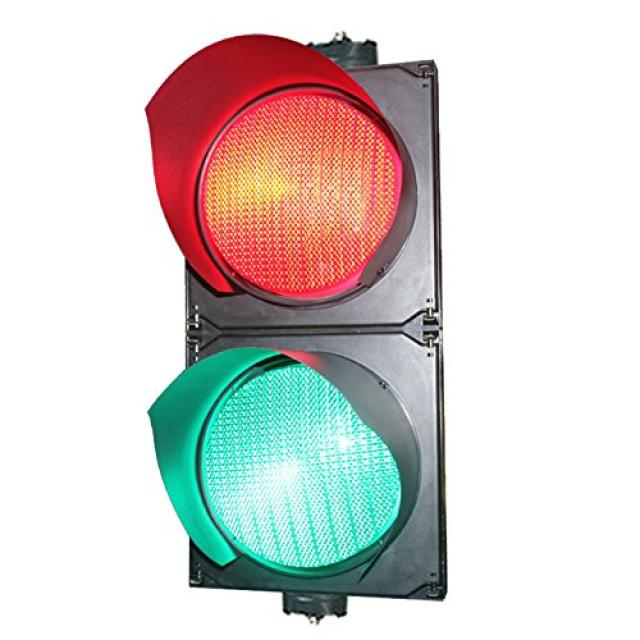green: (178, 348, 421, 572)
red: (178, 79, 422, 286)
